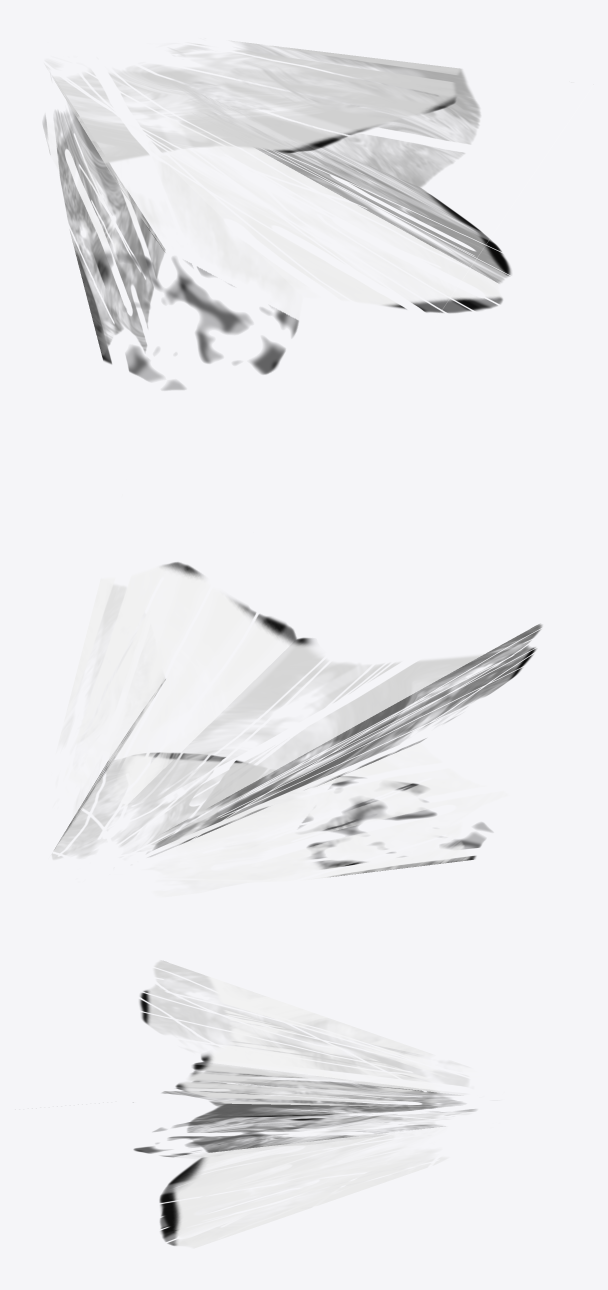
3 renders of one model, top to bottom at view 1: azimuth 30°, elevation 25°; view 2: azimuth 150°, elevation 25°; view 3: azimuth 270°, elevation 25°, orthographic. The views are drawn at different scales.
Visible parts, largest first — view 1: Cone; view 2: Cone; view 3: Cone.
Part boxes in pixels (box(x1,y1,x2,y2)): Cone: box(42, 41, 593, 389); Cone: box(51, 494, 542, 897); Cone: box(15, 960, 476, 1248).
Bounding box in the file's own units: 1.56 × 0.8027 × 2.43.
Materials: 1 (1 with a texture image).
